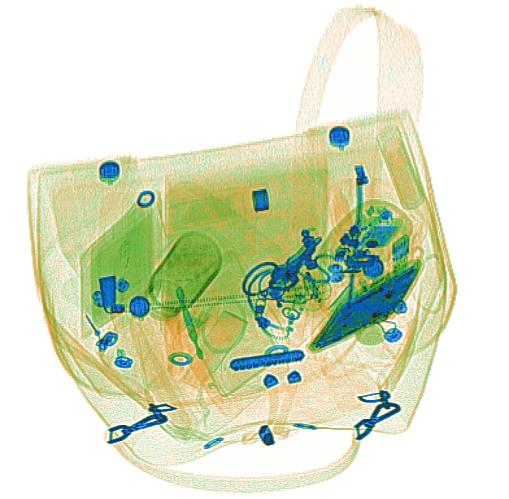USBFlashDisk: (390, 232, 410, 285)
